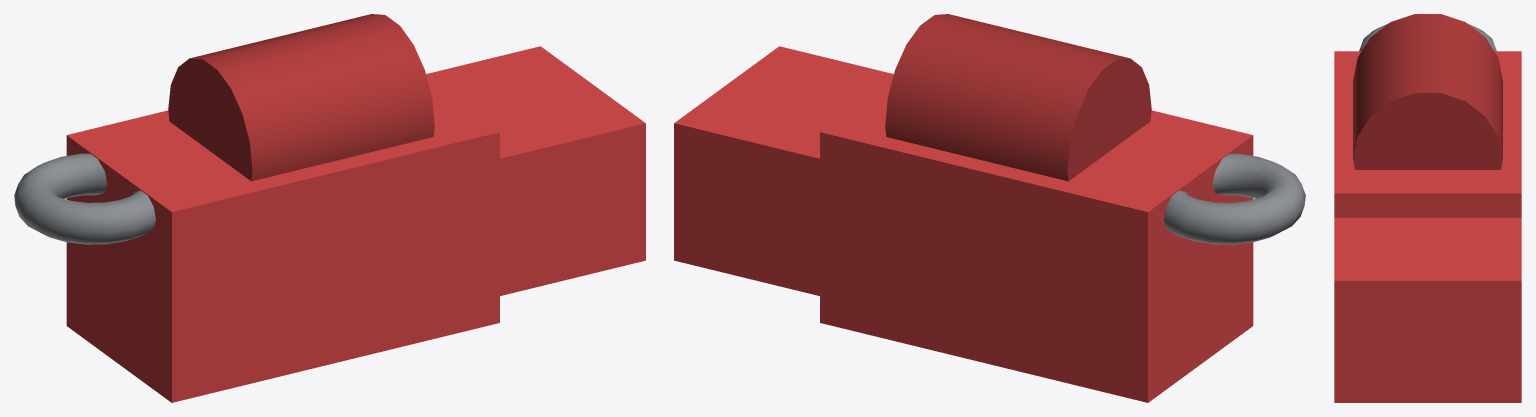
The model's file is item_whistle.fbx.
3 renders of one model, left to right at view 1: azimuth 30°, elevation 25°; view 2: azimuth 150°, elevation 25°; view 3: azimuth 270°, elevation 25°, orthographic. The views are drawn at different scales.
Visible parts, largest first — view 1: M__item_whistle; view 2: M__item_whistle; view 3: M__item_whistle.
Boxes of the visible parts, x1=… form: M__item_whistle: x1=14, y1=14, x2=645, y2=402; M__item_whistle: x1=674, y1=14, x2=1305, y2=402; M__item_whistle: x1=1334, y1=14, x2=1521, y2=402.
Size of the model in its own units: 0.156 by 0.0727 by 0.05.
